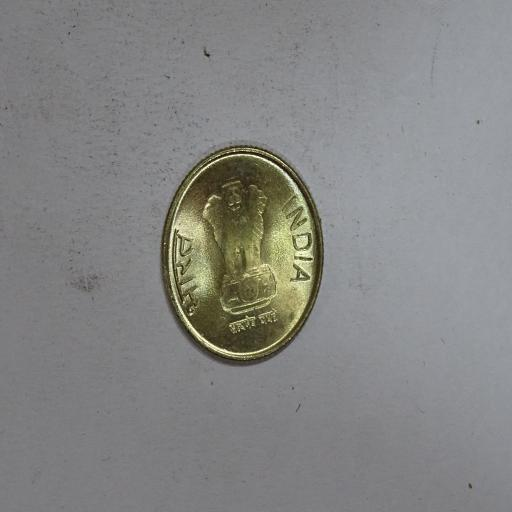rupee5: (160, 146, 324, 363)
